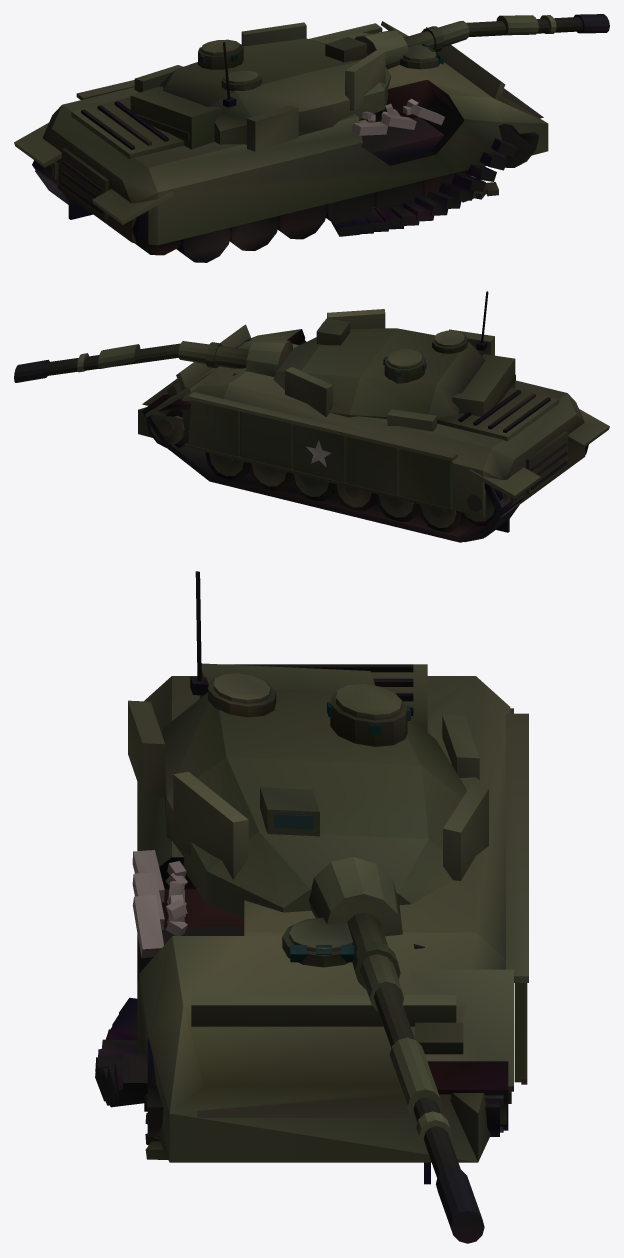
File: veh.tank.wrecked.glb
3 renders of one model, top to bottom at view 1: azimuth 30°, elevation 25°; view 2: azimuth 150°, elevation 25°; view 3: azimuth 270°, elevation 25°, orthographic. The views are drawn at different scales.
Visible parts, largest first — view 1: body, turret, gun; view 2: body, turret, gun; view 3: body, turret, gun.
Part boxes in pixels (<box>): body: <box>14,21,548,262</box>; turret: <box>130,22,390,151</box>; gun: <box>355,14,609,69</box>; body: <box>138,324,609,542</box>; turret: <box>273,291,515,431</box>; gun: <box>14,339,292,382</box>; body: <box>95,664,528,1184</box>; turret: <box>128,571,488,916</box>; gun: <box>309,857,484,1243</box>.
Size of the model in its own units: 9.62 by 3.29 by 3.54.
